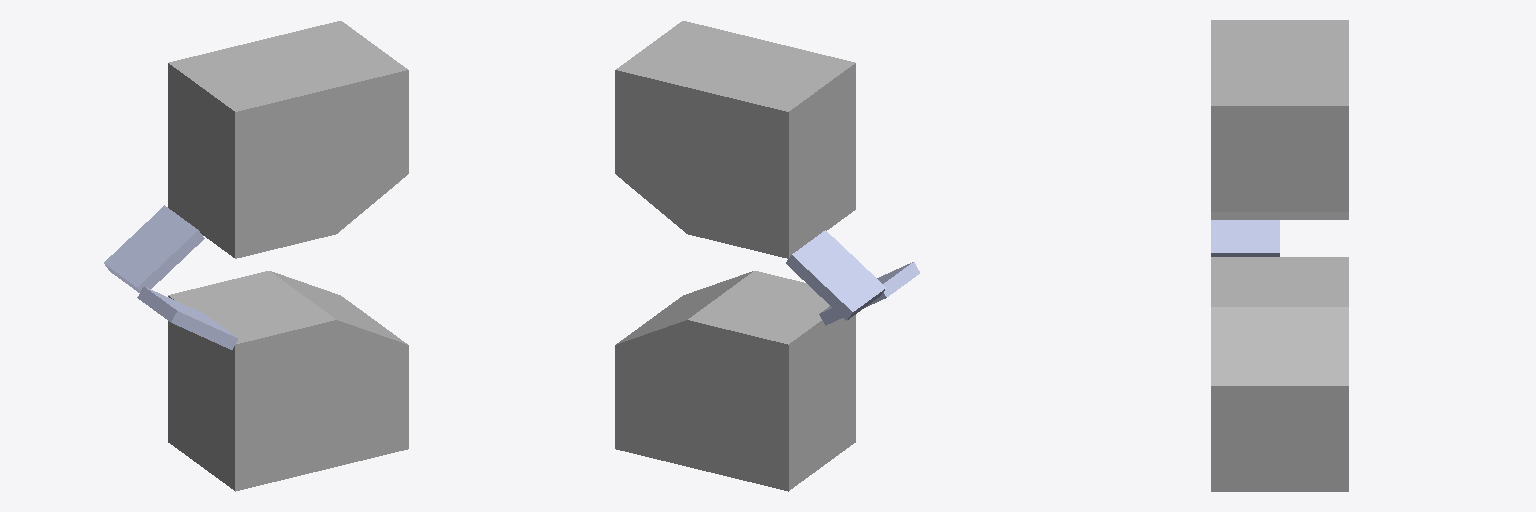
robot.urdf — urdf_1flex_assem:
<?xml version="1.0" encoding="utf-8"?>
<!-- This URDF was automatically created by SolidWorks to URDF Exporter! Originally created by [author] ([email redacted])
     Commit Version: 1.6.0-4-g7f85cfe  Build Version: 1.6.7995.38578
     For more information, please see http://wiki.ros.org/sw_urdf_exporter -->
<robot
  name="urdf_1flex_assem">
  <link
    name="base_link">
    <inertial>
      <origin
        xyz="0.043461 -0.039545 0.0033132"
        rpy="0 0 0" />
      <mass
        value="0.0066791" />
      <inertia
        ixx="3.2763E-07"
        ixy="2.8997E-08"
        ixz="4.039E-24"
        iyy="4.3211E-07"
        iyz="5.2507E-24"
        izz="4.792E-07" />
    </inertial>
    <visual>
      <origin
        xyz="0 0 0"
        rpy="0 0 0" />
      <geometry>
        <mesh
          filename="base_link.STL" />
      </geometry>
      <material
        name="">
        <color
          rgba="0.75294 0.75294 0.75294 1" />
      </material>
    </visual>
    <collision>
      <origin
        xyz="0 0 0"
        rpy="0 0 0" />
      <geometry>
        <mesh
          filename="base_link.STL" />
      </geometry>
    </collision>
  </link>
  <link
    name="flexure_1">
    <inertial>
      <origin
        xyz="-0.0041572 0.0027781 0.0039688"
        rpy="0 0 0" />
      <mass
        value="0.00012601" />
      <inertia
        ixx="1.0041E-09"
        ixy="4.7287E-10"
        ixz="5.4893E-26"
        iyy="1.3956E-09"
        iyz="-5.6148E-26"
        izz="1.0765E-09" />
    </inertial>
    <visual>
      <origin
        xyz="0 0 0"
        rpy="0 0 0" />
      <geometry>
        <mesh
          filename="flexure_1.STL" />
      </geometry>
      <material
        name="">
        <color
          rgba="0.79216 0.81961 0.93333 1" />
      </material>
    </visual>
    <collision>
      <origin
        xyz="0 0 0"
        rpy="0 0 0" />
      <geometry>
        <mesh
          filename="flexure_1.STL" />
      </geometry>
    </collision>
  </link>
  <joint
    name="flexure_1"
    type="revolute">
    <origin
      xyz="0.032256 -0.0033132 -0.02953"
      rpy="1.5708 0 0" />
    <parent
      link="base_link" />
    <child
      link="flexure_1" />
    <axis
      xyz="0 0 0" />
    <limit
      lower="0"
      upper="0"
      effort="0"
      velocity="0" />
  </joint>
  <link
    name="flexure_2">
    <inertial>
      <origin
        xyz="-0.0041572 0.0027781 0.0039688"
        rpy="0 0 0" />
      <mass
        value="0.00012601" />
      <inertia
        ixx="1.0041E-09"
        ixy="4.7287E-10"
        ixz="1.933E-25"
        iyy="1.3956E-09"
        iyz="-1.0663E-25"
        izz="1.0765E-09" />
    </inertial>
    <visual>
      <origin
        xyz="0 0 0"
        rpy="0 0 0" />
      <geometry>
        <mesh
          filename="flexure_2.STL" />
      </geometry>
      <material
        name="">
        <color
          rgba="0.79216 0.81961 0.93333 1" />
      </material>
    </visual>
    <collision>
      <origin
        xyz="0 0 0"
        rpy="0 0 0" />
      <geometry>
        <mesh
          filename="flexure_2.STL" />
      </geometry>
    </collision>
  </link>
  <joint
    name="flexure_2"
    type="revolute">
    <origin
      xyz="-0.0083143 0.0055563 -0.0079375"
      rpy="0 0 -1.9634" />
    <parent
      link="flexure_1" />
    <child
      link="flexure_2" />
    <axis
      xyz="0 0 0" />
    <limit
      lower="0"
      upper="0"
      effort="0"
      velocity="0" />
  </joint>
  <link
    name="top_link">
    <inertial>
      <origin
        xyz="0.011205 0.0026844 4.3368E-19"
        rpy="0 0 0" />
      <mass
        value="0.0066791" />
      <inertia
        ixx="3.2763E-07"
        ixy="2.8997E-08"
        ixz="-2.2859E-24"
        iyy="4.3211E-07"
        iyz="-1.7436E-23"
        izz="4.792E-07" />
    </inertial>
    <visual>
      <origin
        xyz="0 0 0"
        rpy="0 0 0" />
      <geometry>
        <mesh
          filename="top_link.STL" />
      </geometry>
      <material
        name="">
        <color
          rgba="0.75294 0.75294 0.75294 1" />
      </material>
    </visual>
    <collision>
      <origin
        xyz="0 0 0"
        rpy="0 0 0" />
      <geometry>
        <mesh
          filename="top_link.STL" />
      </geometry>
    </collision>
  </link>
  <joint
    name="top_link"
    type="revolute">
    <origin
      xyz="-0.020048 0.00069772 0.0079375"
      rpy="3.1416 0 1.9634" />
    <parent
      link="flexure_2" />
    <child
      link="top_link" />
    <axis
      xyz="0 0 0" />
    <limit
      lower="0"
      upper="0"
      effort="0"
      velocity="0" />
  </joint>
</robot>

--- Render facts (derived) ---
3 views of the same robot in one strip: view 1: azimuth 30°, elevation 25°; view 2: azimuth 150°, elevation 25°; view 3: azimuth 270°, elevation 25° (orthographic).
Robot: urdf_1flex_assem — 4 links, 3 joints (3 revolute); root link base_link; default pose: all joints at 0.
Links seen in each view (by area): view 1: top_link, base_link, flexure_2, flexure_1; view 2: top_link, base_link, flexure_2, flexure_1; view 3: base_link, top_link, flexure_1.
Boxes of the visible links, box(x1,y1,x2,y2) form: top_link: box(168, 21, 408, 258); base_link: box(168, 271, 408, 491); flexure_2: box(104, 205, 204, 292); flexure_1: box(137, 287, 237, 349); top_link: box(615, 21, 855, 258); base_link: box(615, 271, 855, 491); flexure_2: box(786, 230, 886, 320); flexure_1: box(819, 262, 919, 325); base_link: box(1211, 257, 1348, 491); top_link: box(1211, 20, 1348, 219); flexure_1: box(1211, 220, 1279, 256).
Size in the robot's own frame: 0.0323 by 0.0159 by 0.0492 metres.
Meshes: 4 distinct files referenced, 4 mesh visuals loaded (4 binary STL).
